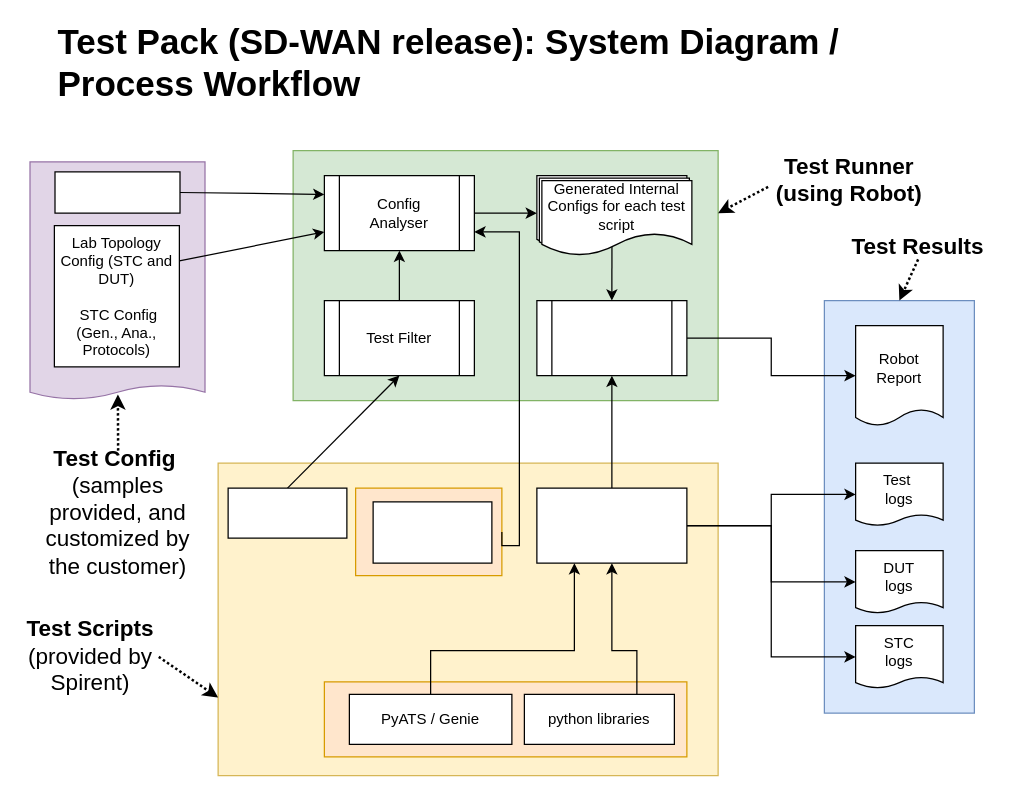
Image size: 1015x798. Some labels were removed from this diagram. Each missing label, with the centre of its shape:
"Script Runner" belongs at point 611,337.
"SNE Config" belongs at point 117,192.
"Test Meta Data" belongs at point 287,512.
"Test Script (Setup, Run, TearDown)" belongs at point 611,525.
"Testbed Topology Config template" belongs at point 432,532.
